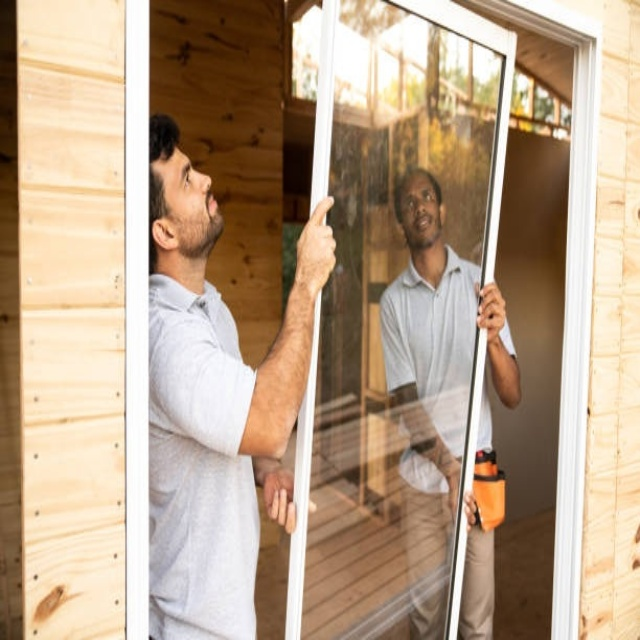Sin_gafas: (168, 149, 199, 205), (403, 179, 436, 210)
Sin_guantes: (290, 196, 340, 292), (259, 461, 321, 536), (474, 279, 510, 345)
Sin_mascara: (195, 185, 221, 226), (409, 210, 435, 240)
